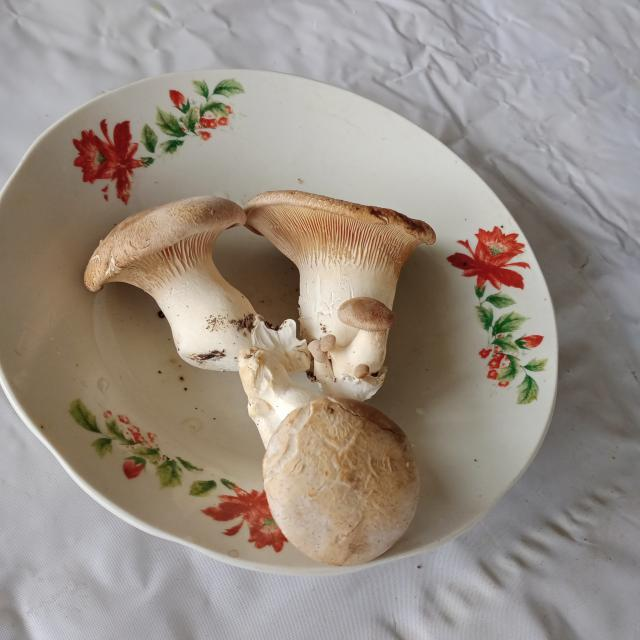Pleurotus cystidiosus: (240, 336, 420, 561), (246, 192, 435, 398), (90, 194, 267, 371)
